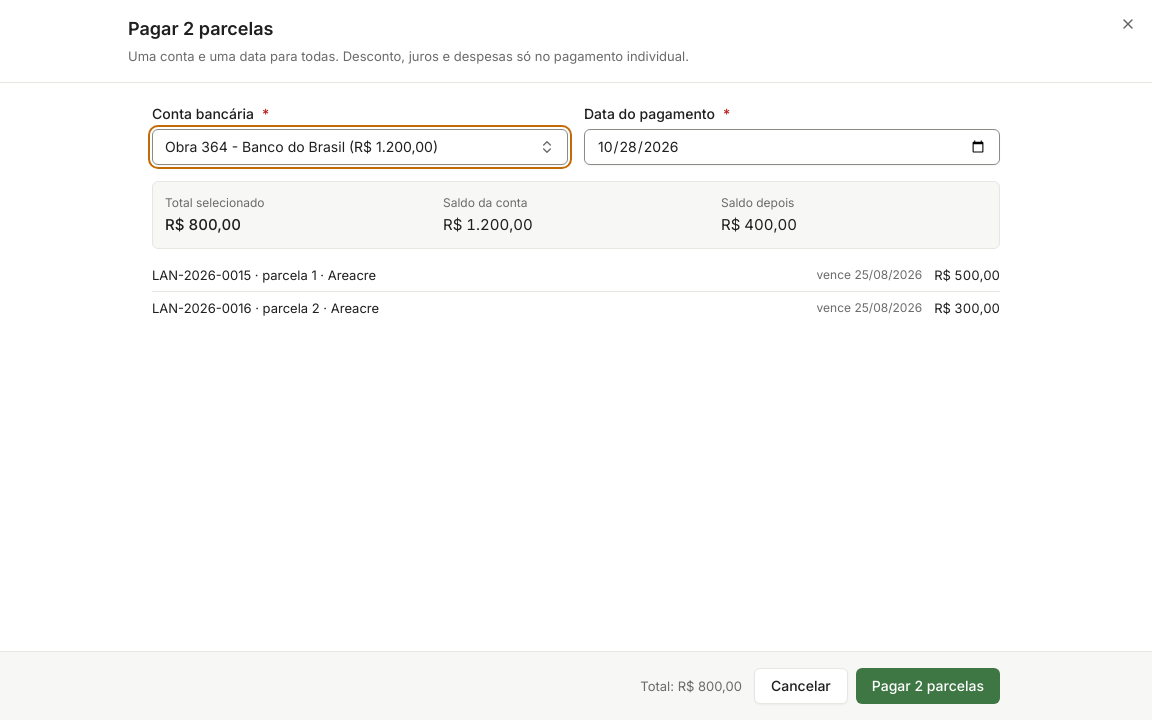
it: PagarLoteDrawer › recusa de uma não impede as outras, e o motivo fica na tela
This screenshot has width=1152, height=720.
Step 1. Click the button "Pagar 2 parcelas" → [928, 686], box 856,668 -> 1000,704
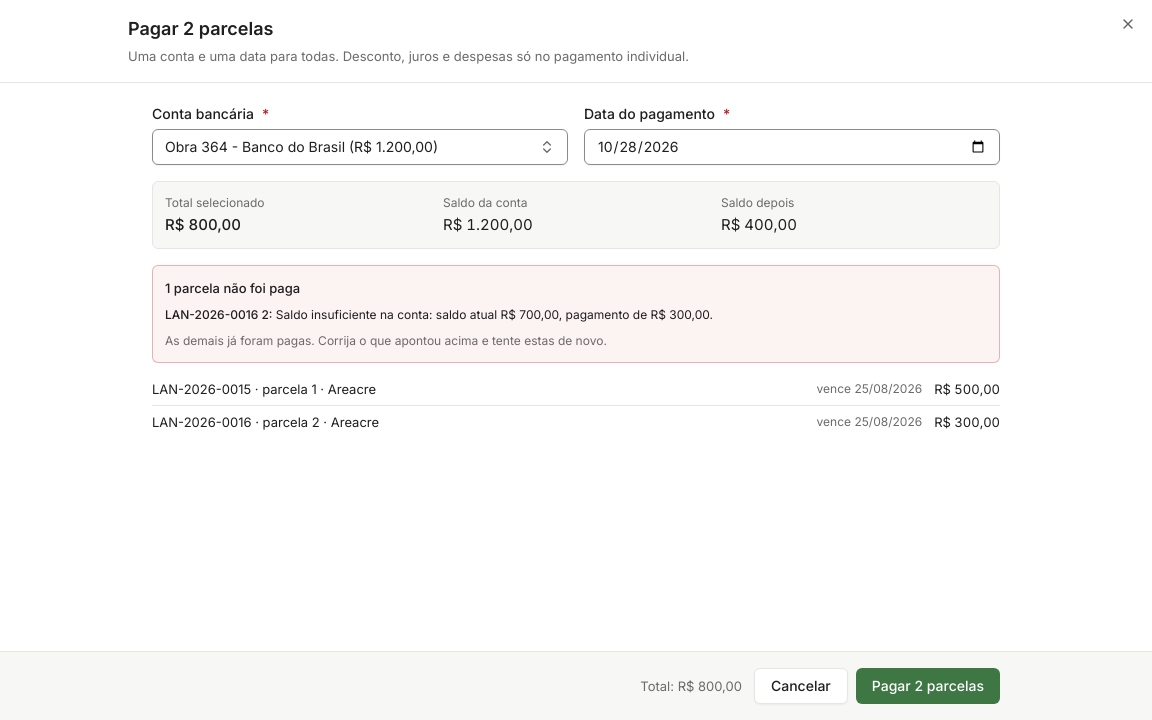
expect the text "1 parcela não foi paga" is shown: met, box 165,280 -> 300,296
expect the list item "Saldo insuficiente" is shown: met, box 276,307 -> 713,322
